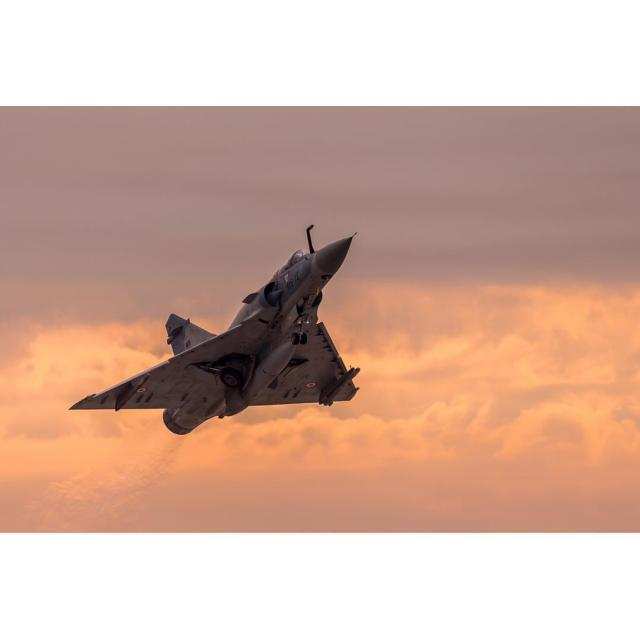MIL_Plane: (68, 224, 360, 435)
